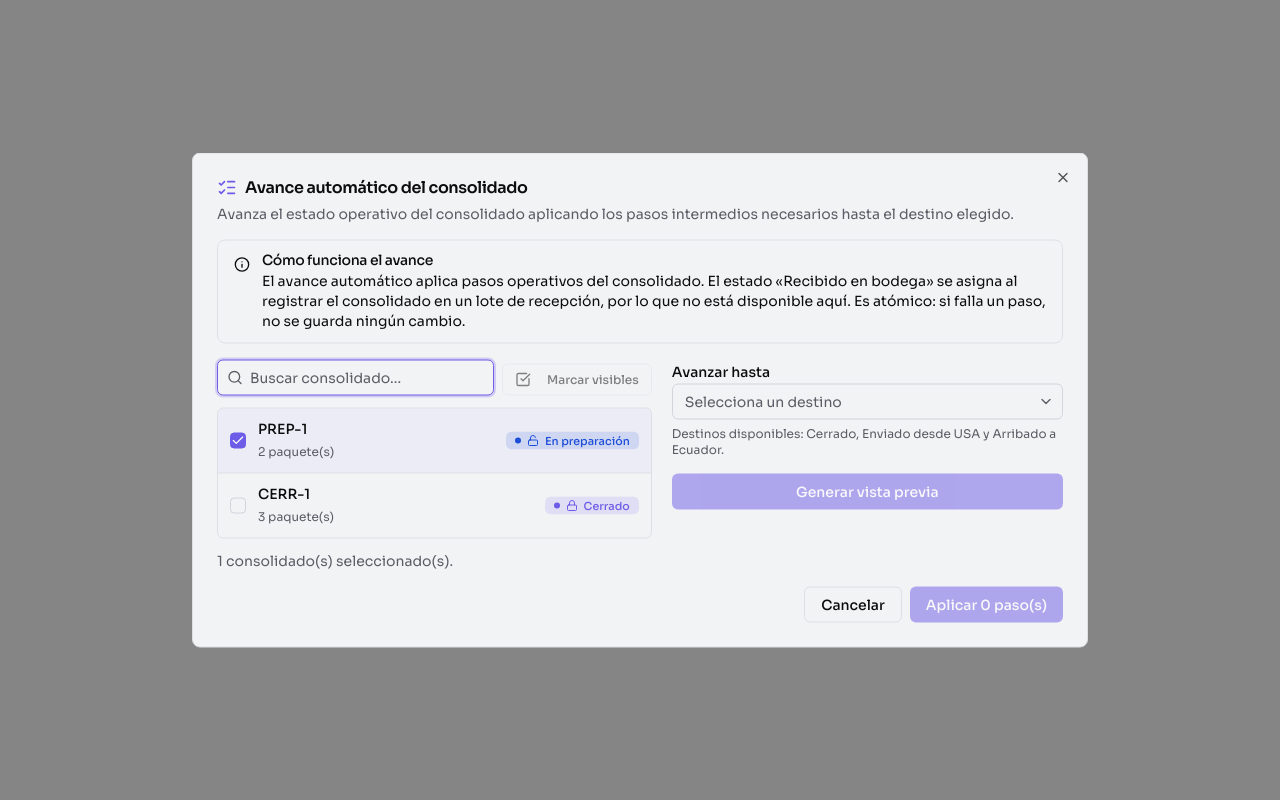
it: AvanceOperativoConsolidadosDialog › muestra los pasos operativos intermedios en la vista previa
Click the dropdown named "Avanzar hasta": (763, 402) [672, 384, 1063, 420]
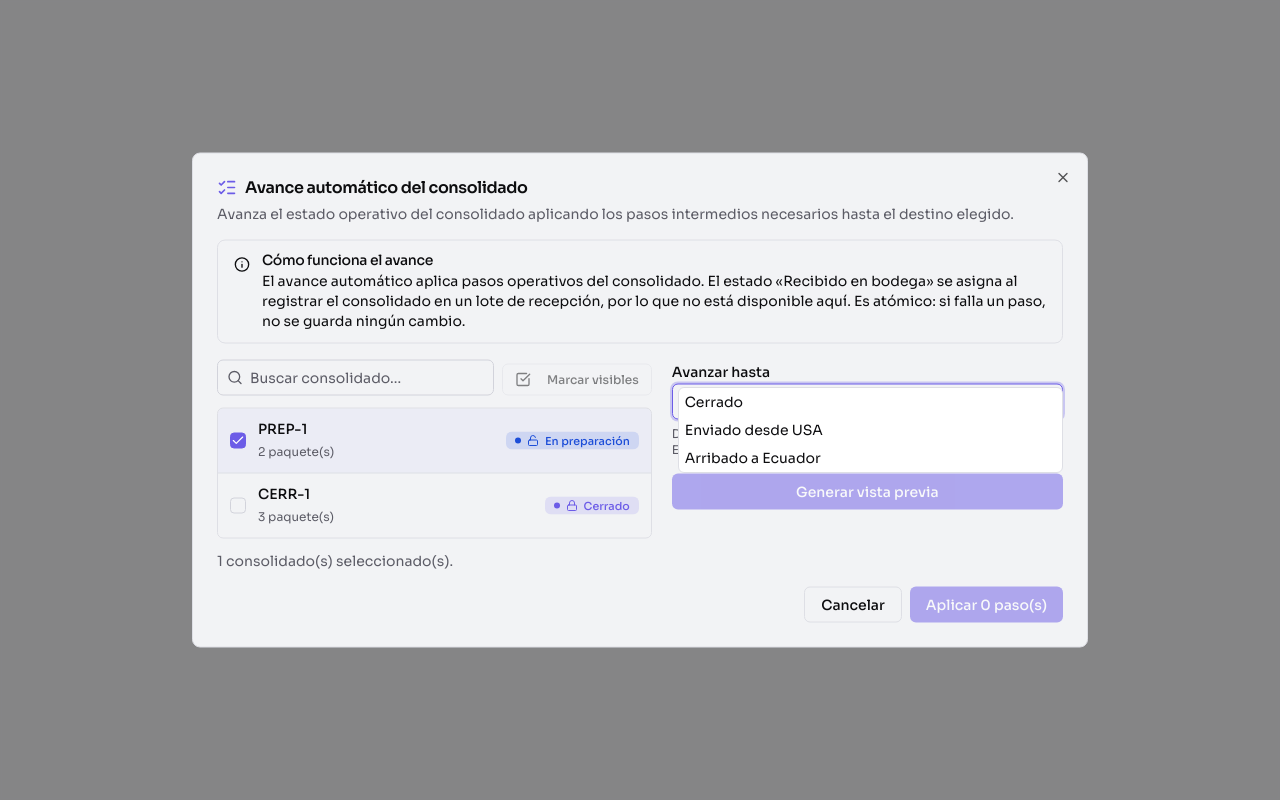
Click the option "Arribado a Ecuador": (753, 458) [685, 448, 821, 466]
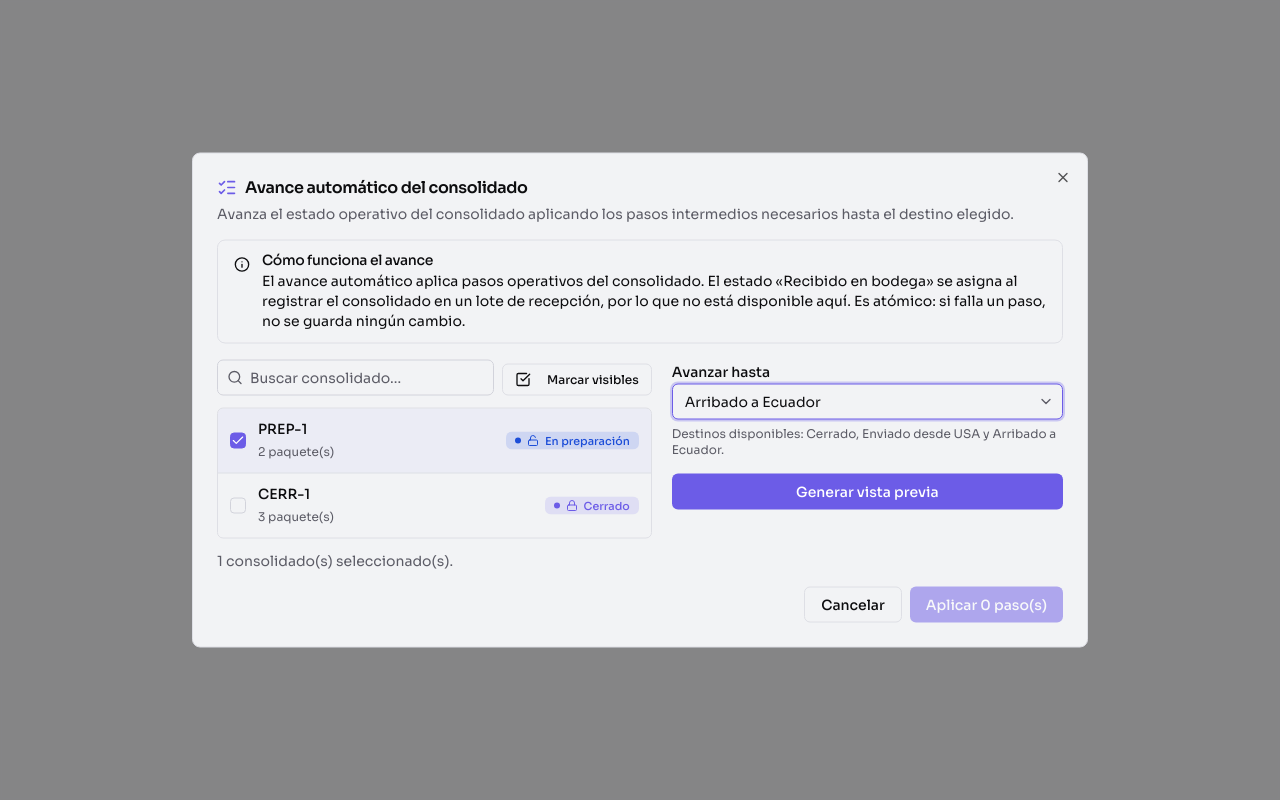
Click the button "Generar vista previa": (867, 492) [672, 474, 1063, 510]
(page scrolled)
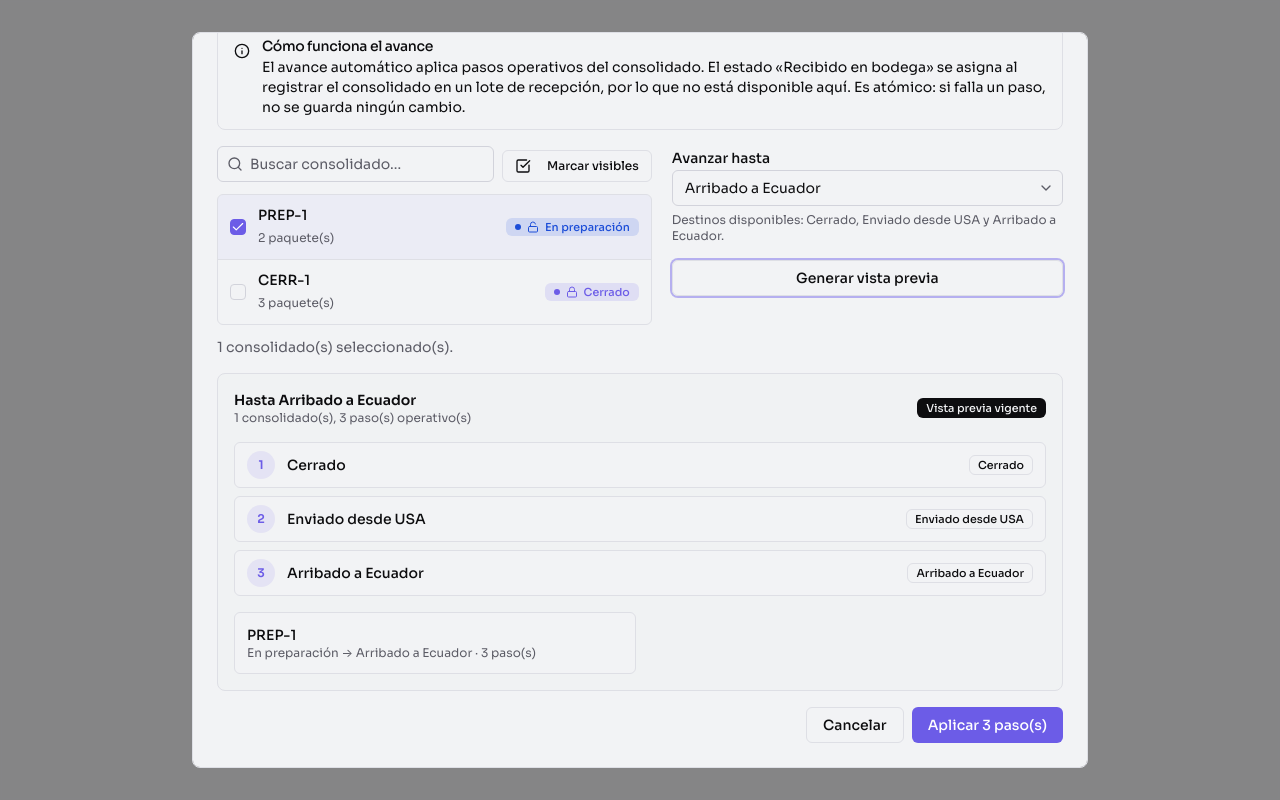
Check: the text "1 consolidado(s), 3 paso(s) operativo(s)" is shown, box [234, 410, 471, 426]
Check: the 1st text "Enviado desde USA" is shown, box [287, 510, 426, 528]
Check: the button "Aplicar 3 paso(s)" is enabled, box [912, 707, 1063, 743]
